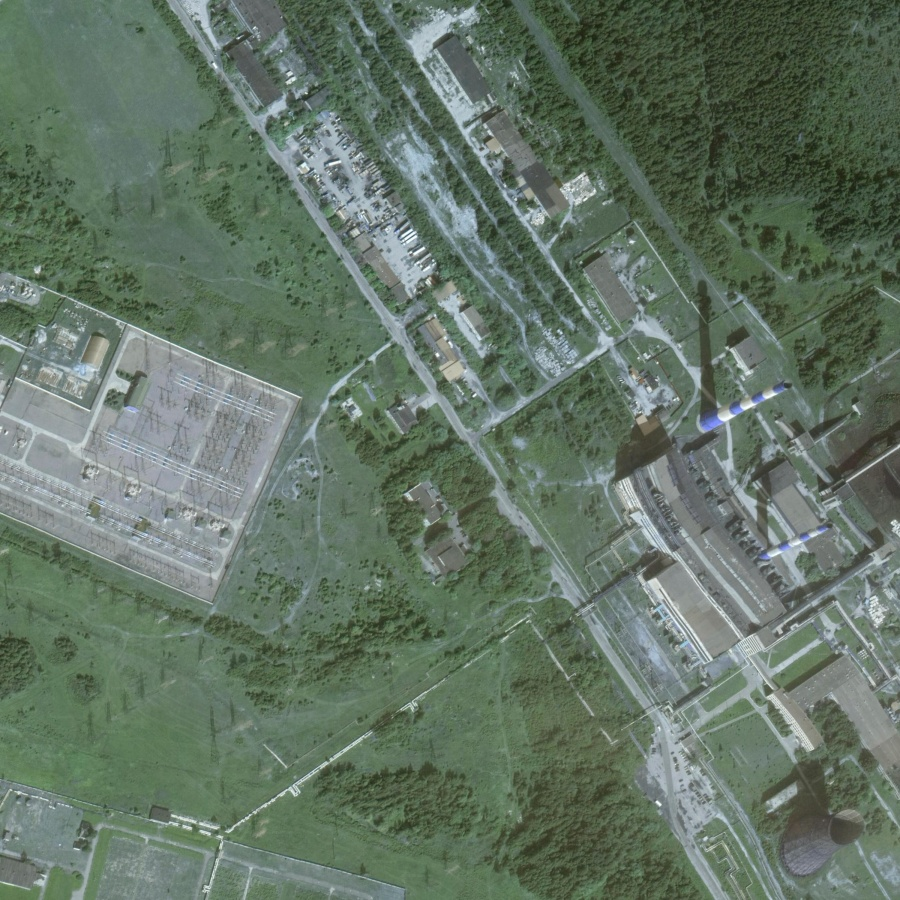PowerPlant: (755, 758, 884, 888)
